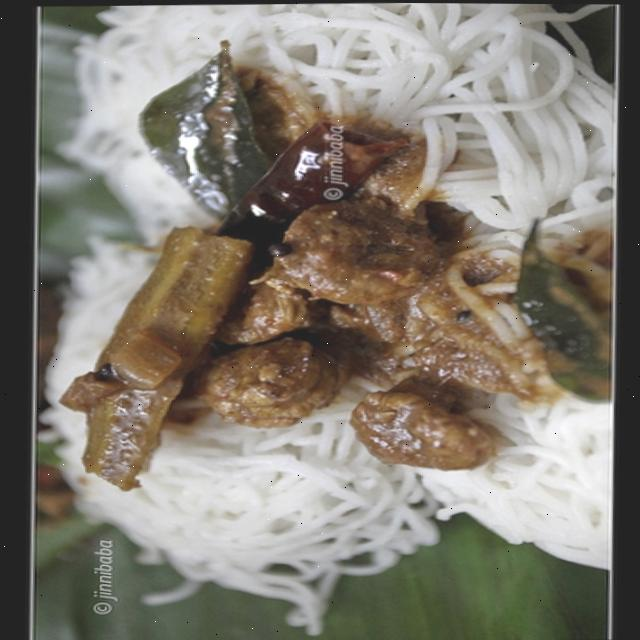面条主食: (30, 0, 622, 608)
